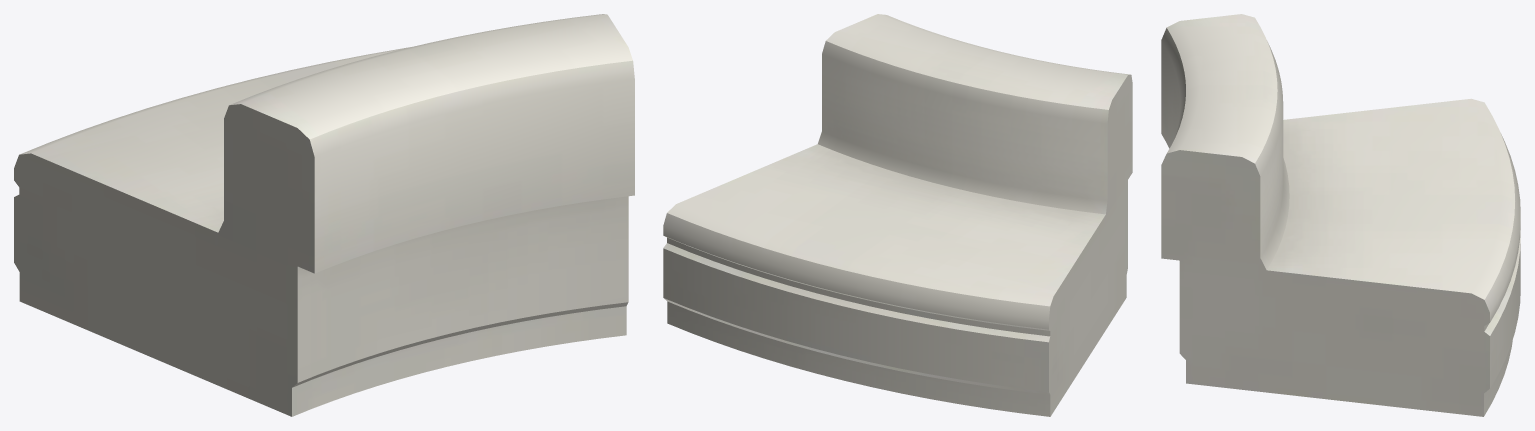
File: modular_sofa_2f.glb
3 renders of one model, left to right at view 1: azimuth 30°, elevation 25°; view 2: azimuth 150°, elevation 25°; view 3: azimuth 270°, elevation 25°, orthographic. The views are drawn at different scales.
Parts seen in each view (by area): view 1: modular_sofa_2f; view 2: modular_sofa_2f; view 3: modular_sofa_2f.
Boxes of the visible parts, <box> form: modular_sofa_2f: <box>14,14,634,416</box>; modular_sofa_2f: <box>663,14,1132,416</box>; modular_sofa_2f: <box>1161,14,1520,416</box>.
Bounding box in the file's own units: 1.47 × 0.8 × 1.12.
1 material, 1 textured.
